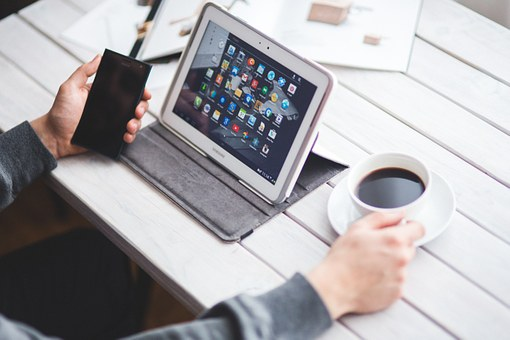mobile: (70, 49, 154, 169)
